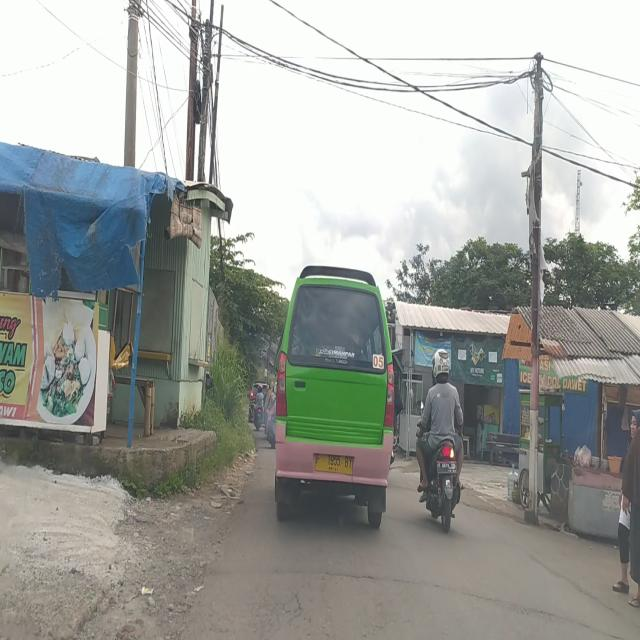Drain Hole: (240, 583, 314, 640)
Sewer Cover: (289, 569, 640, 634)
